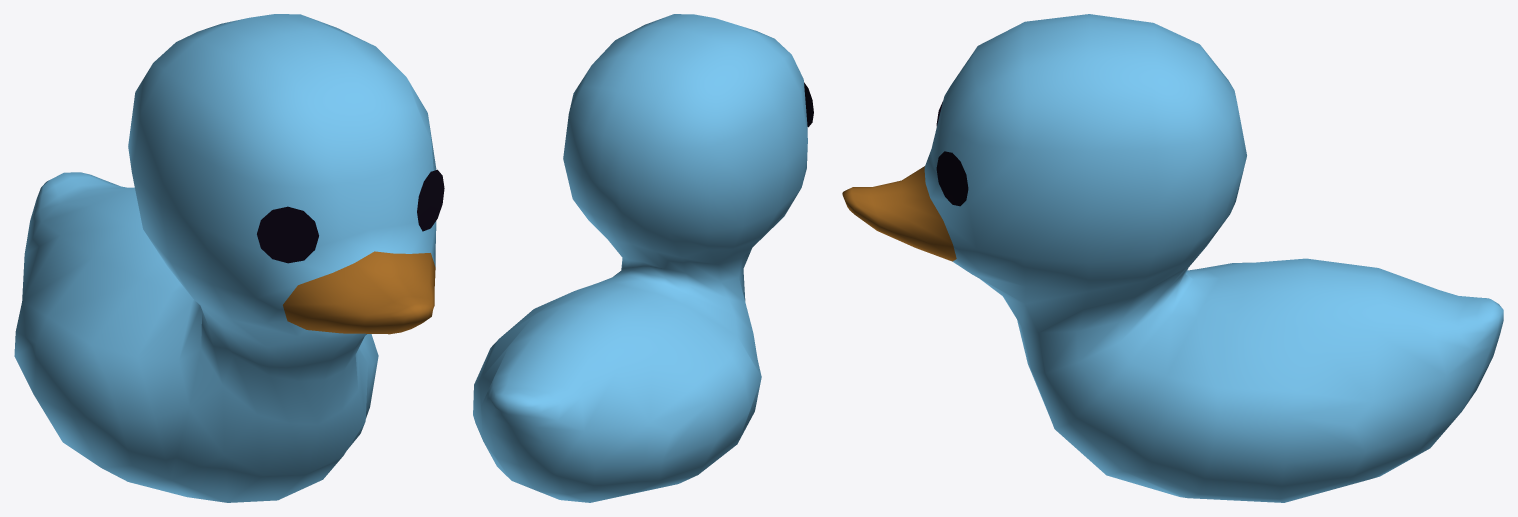
File: Duck_Cyan.fbx
3 renders of one model, left to right at view 1: azimuth 30°, elevation 25°; view 2: azimuth 150°, elevation 25°; view 3: azimuth 270°, elevation 25°, orthographic. The views are drawn at different scales.
Visible parts, largest first — view 1: Duck_Cyan; view 2: Duck_Cyan; view 3: Duck_Cyan.
Boxes of the visible parts, x1,y1,x2,y2 form: Duck_Cyan: (14,14,444,502); Duck_Cyan: (473,14,813,502); Duck_Cyan: (842,14,1503,502).
Size of the model in its own units: 76.94 by 124 by 165.
